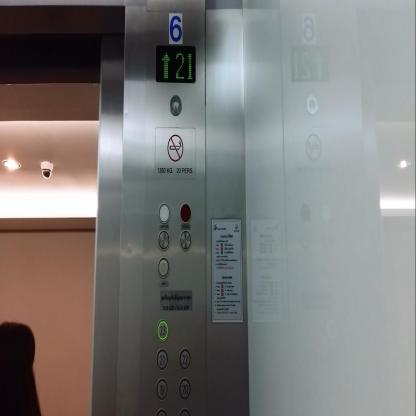19: (155, 376, 168, 402)
20: (178, 376, 190, 401)
21: (155, 347, 168, 372)
22: (178, 346, 191, 371)
23: (156, 318, 168, 341)
alarm: (157, 257, 169, 278)
empty: (157, 202, 170, 223), (179, 202, 191, 223)
led: (155, 44, 196, 83)
speaker: (157, 229, 170, 250), (179, 229, 191, 250)
unknown: (169, 94, 182, 116)
